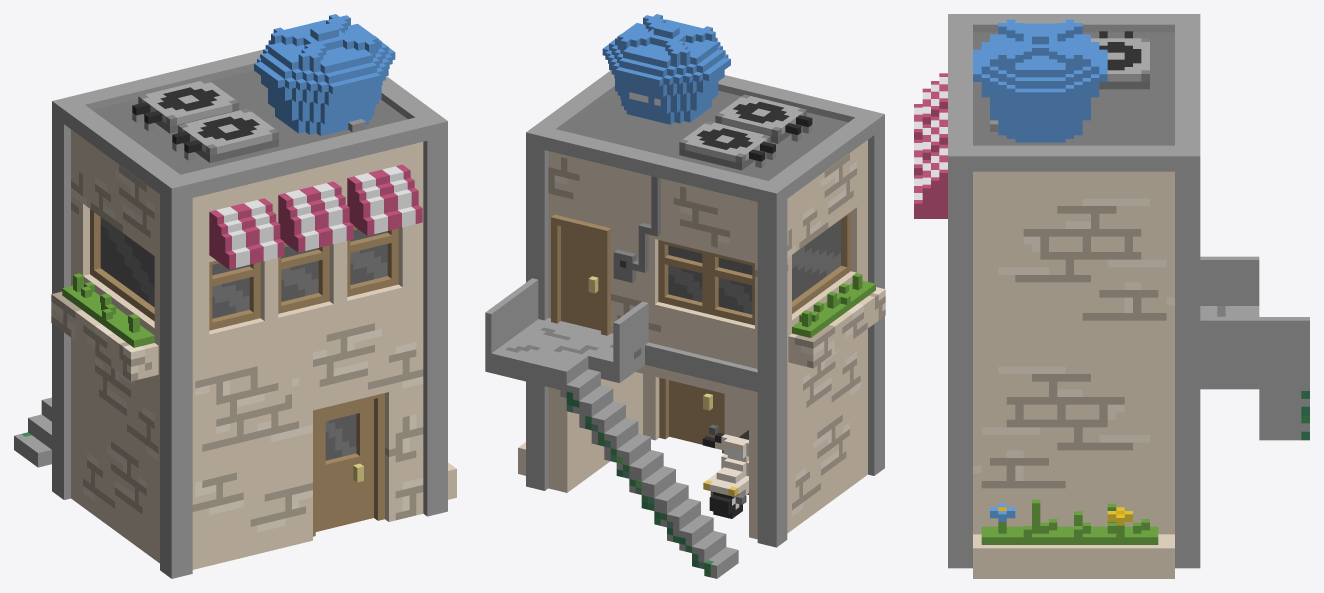
The model's file is variaçõesdecorcasa-0.obj.
The picture shows the model from 3 angles, left to right: view 1: azimuth 30°, elevation 25°; view 2: azimuth 150°, elevation 25°; view 3: azimuth 270°, elevation 25°; orthographic projection. The views are drawn at different scales.
Size of the model in its own units: 4.6 by 6.5 by 4.7.
1 material, 1 textured.
